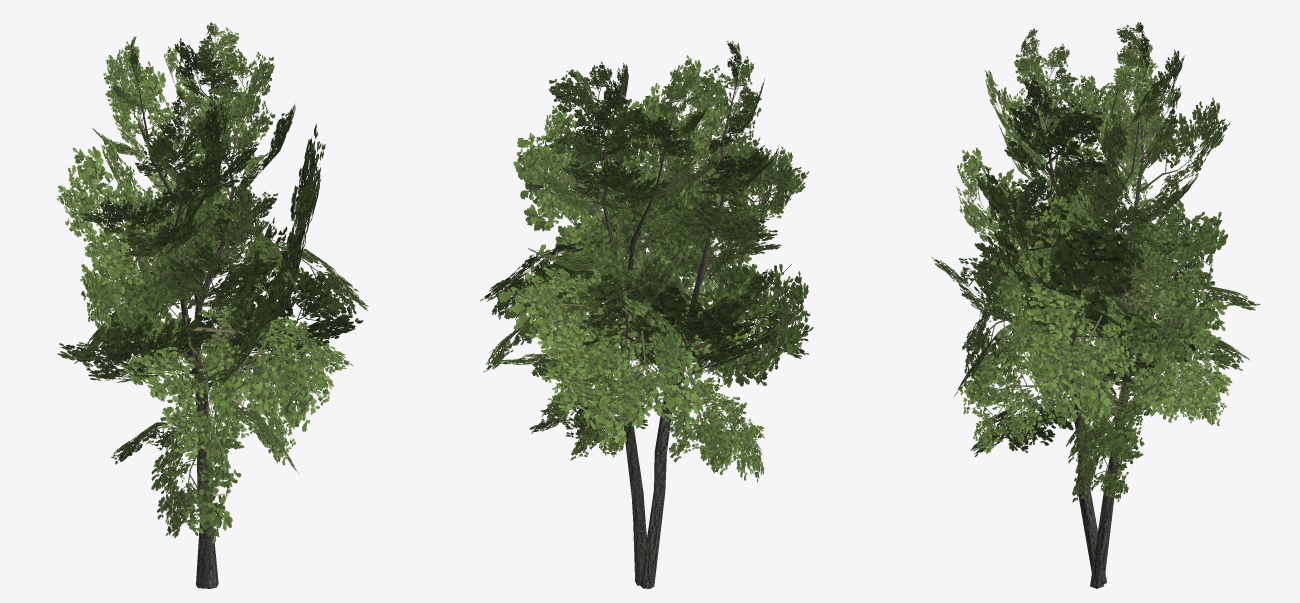
Rendered from Tree-03-1.gltf.
3 renders of one model, left to right at view 1: azimuth 30°, elevation 25°; view 2: azimuth 150°, elevation 25°; view 3: azimuth 270°, elevation 25°, orthographic.
Parts seen in each view (by area): view 1: Tree-03-1; view 2: Tree-03-1; view 3: Tree-03-1.
Boxes of the visible parts, x1,y1,x2,y2 form: Tree-03-1: (56, 21, 368, 588); Tree-03-1: (480, 41, 813, 588); Tree-03-1: (931, 22, 1260, 588).
Bounding box in the file's own units: 6 × 8.78 × 5.73.
Materials: 3 (3 with a texture image).
